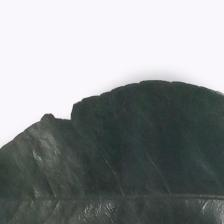healthy: (7, 95, 224, 224)
